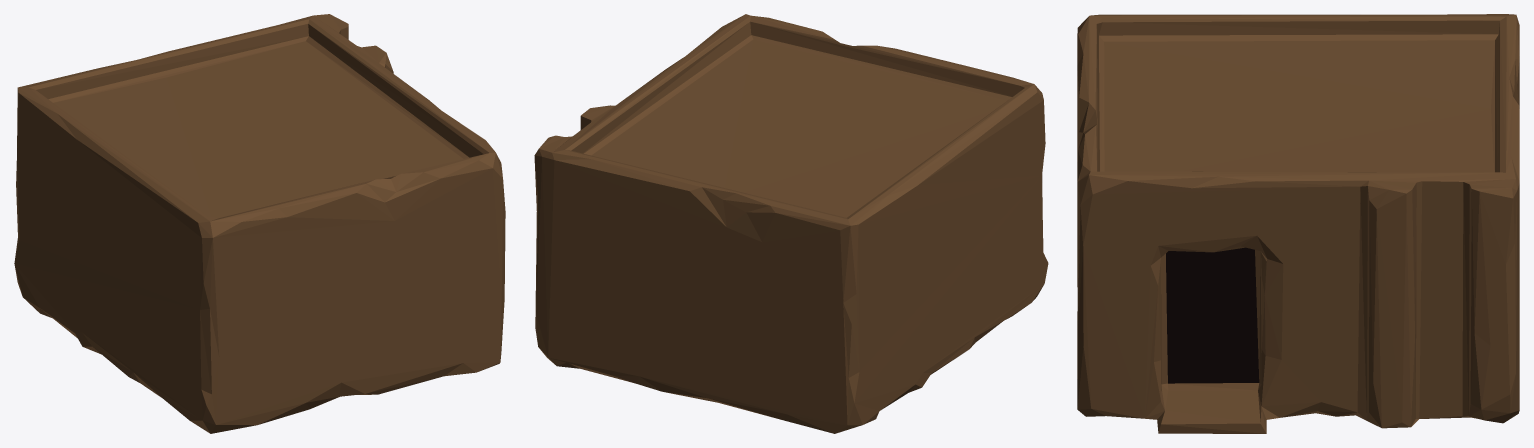
Rendered from SM_small_house_04.fbx.
3 renders of one model, left to right at view 1: azimuth 30°, elevation 25°; view 2: azimuth 150°, elevation 25°; view 3: azimuth 270°, elevation 25°, orthographic. The views are drawn at different scales.
Visible parts, largest first — view 1: small_house_04; view 2: small_house_04; view 3: small_house_04.
Boxes of the visible parts, x1,y1,x2,y2 form: small_house_04: (14, 14, 505, 433); small_house_04: (534, 14, 1048, 433); small_house_04: (1077, 14, 1519, 433).
Size of the model in its own units: 564 by 346 by 576.
